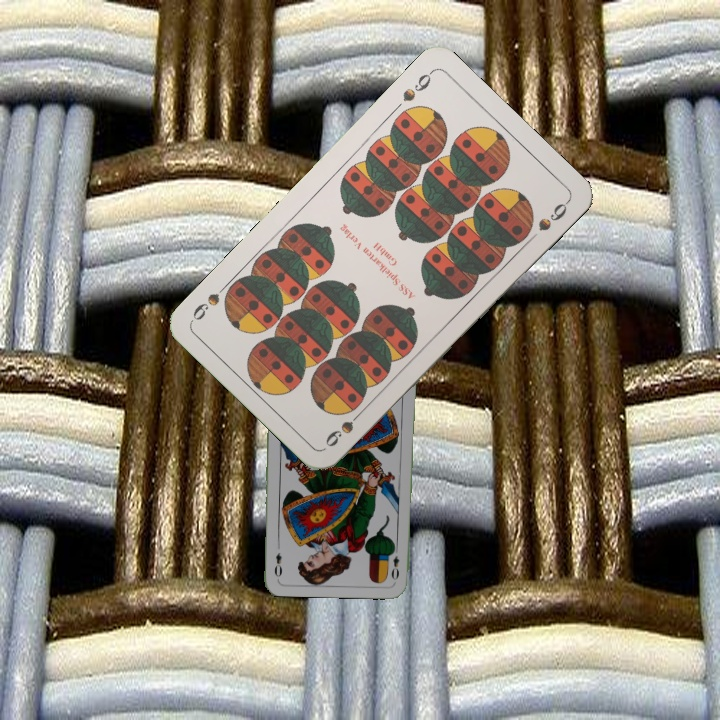EO: (387, 543, 402, 582)
S9: (321, 403, 368, 450), (398, 66, 436, 105)
